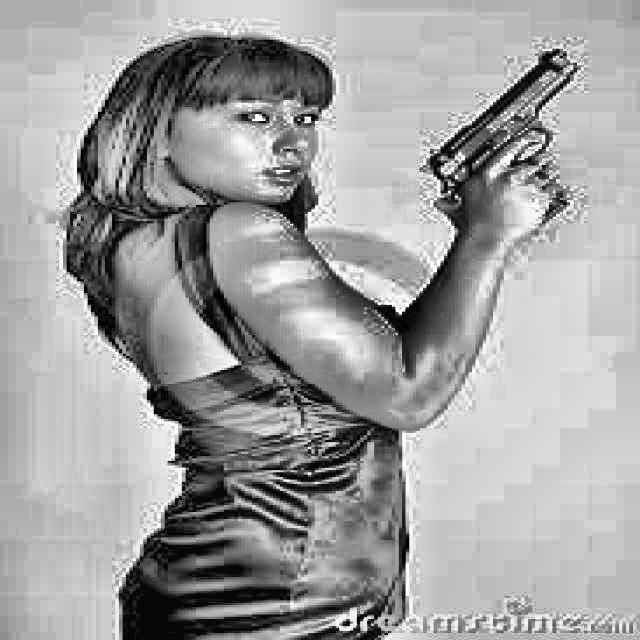pistol: (403, 40, 606, 272)
